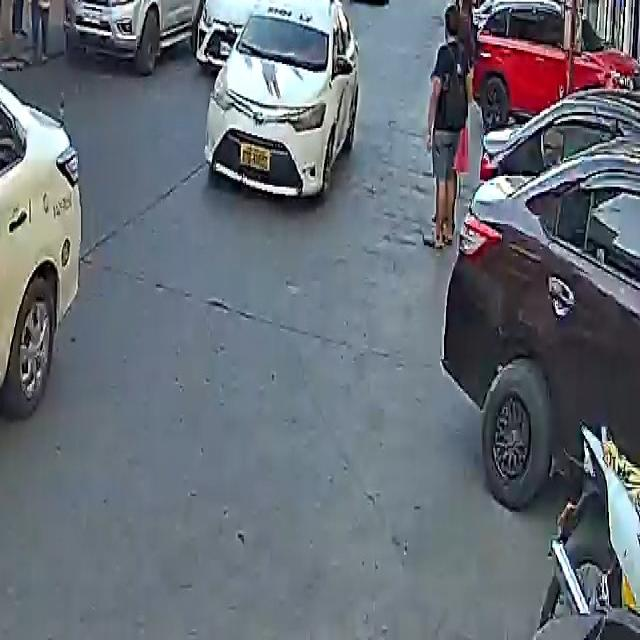car: (442, 51, 640, 548), (0, 0, 97, 635), (203, 0, 363, 201), (468, 0, 637, 132), (63, 0, 208, 73), (190, 0, 294, 68)
